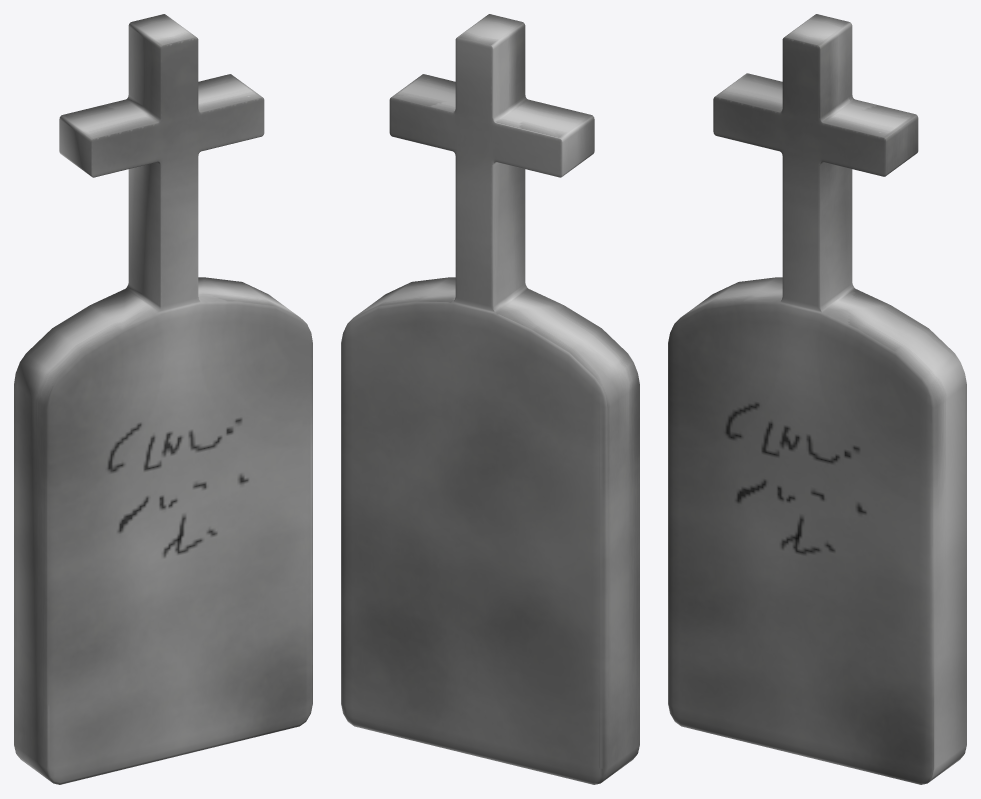
File: headstone cross.fbx
3 views of the same model, side by side, from view 1: azimuth 30°, elevation 25°; view 2: azimuth 150°, elevation 25°; view 3: azimuth 330°, elevation 25° (orthographic).
Visible parts, largest first — view 1: headstone cross; view 2: headstone cross; view 3: headstone cross.
Part boxes in pixels (box(x1,y1,x2,y2)): headstone cross: box(14, 14, 312, 784); headstone cross: box(341, 14, 639, 784); headstone cross: box(668, 14, 966, 784).
Size of the model in its own units: 25.44 by 65.14 by 5.97.
1 material, 1 textured.
